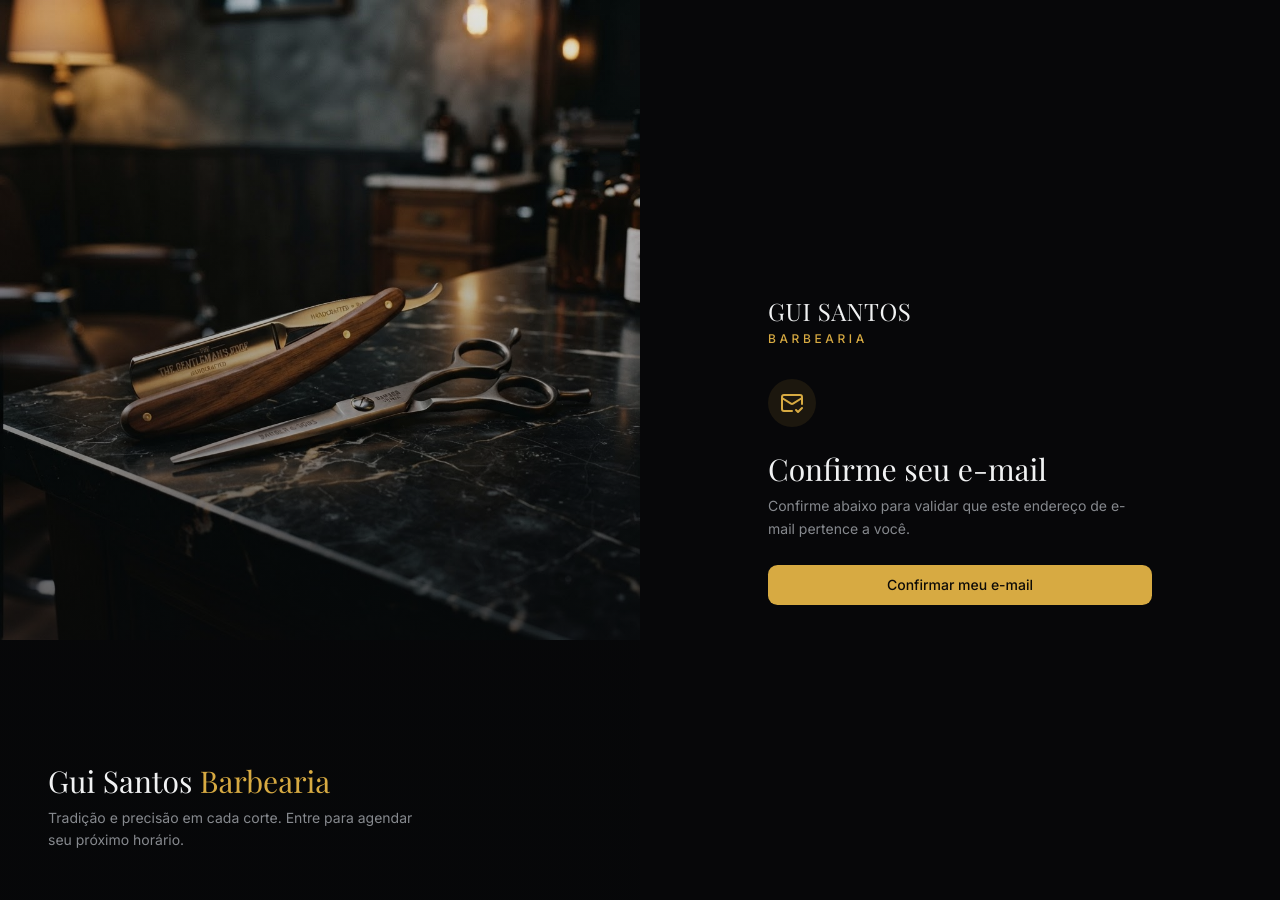
Test case: confirmação de e-mail › mostra o erro devolvido pela API sem oferecer repetição automática
Click the button "Confirmar meu e-mail": (960,585) x1=768 y1=565 x2=1152 y2=605
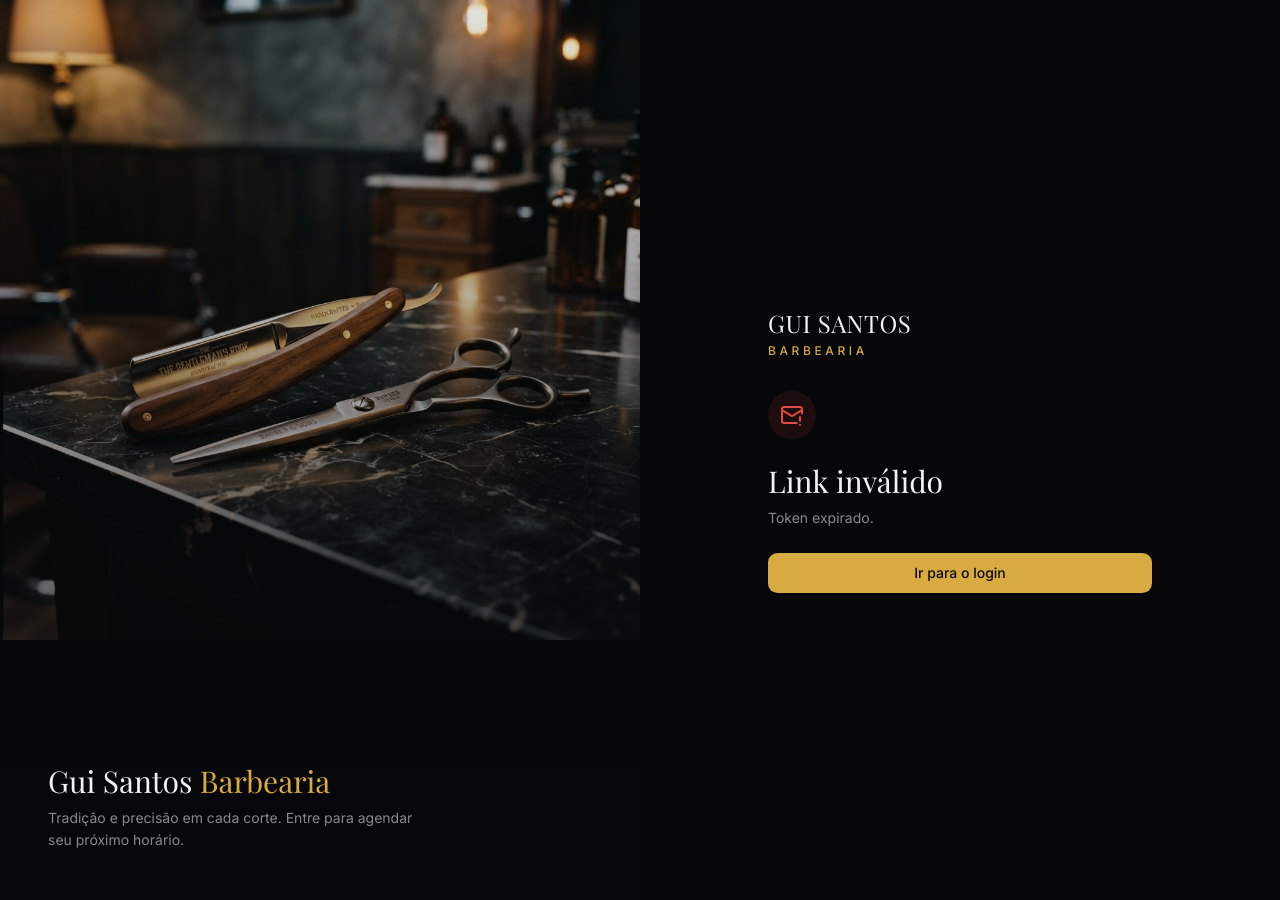
Expected: the heading "Link inválido" is shown, x1=768 y1=461 x2=943 y2=501
Expected: the text "Token expirado." is shown, x1=768 y1=509 x2=874 y2=526
Expected: the button "Ir para o login" is shown, x1=768 y1=553 x2=1152 y2=593
